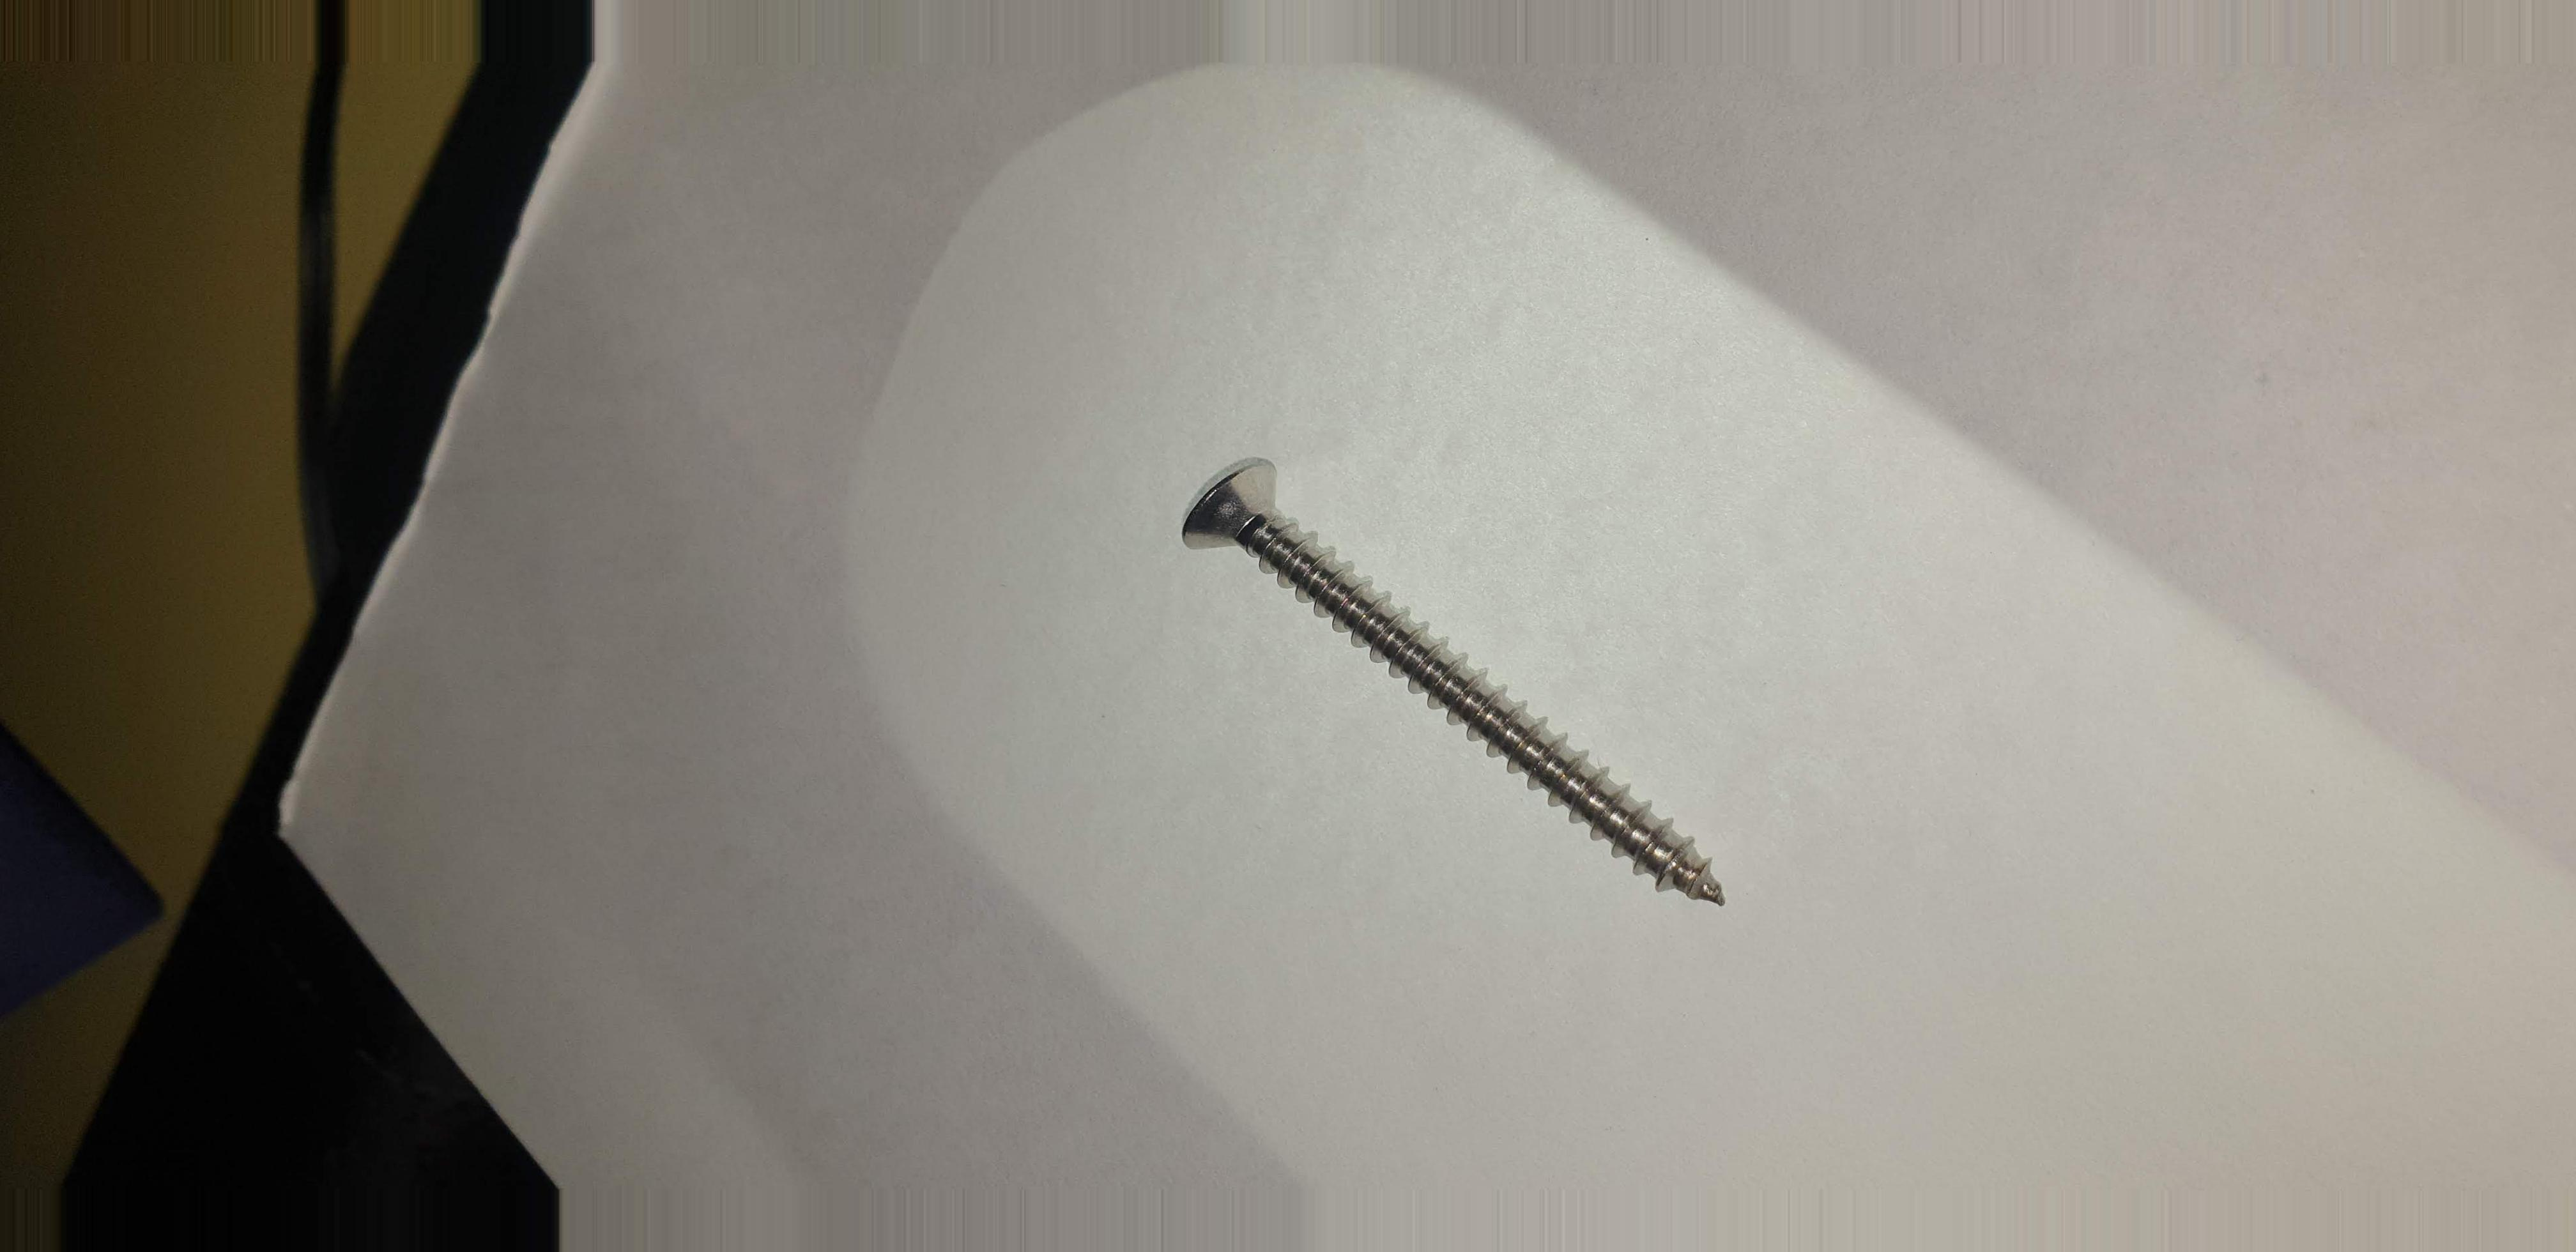fastener: (1104, 389, 1871, 948)
